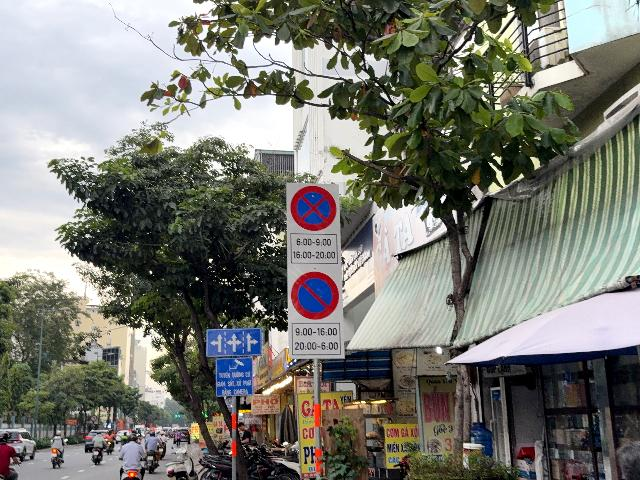cam-do-xe: (290, 271, 339, 320)
cam-dung-va-do-xe: (290, 185, 337, 231)
